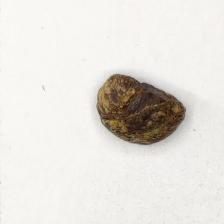NG: (96, 74, 186, 144)
